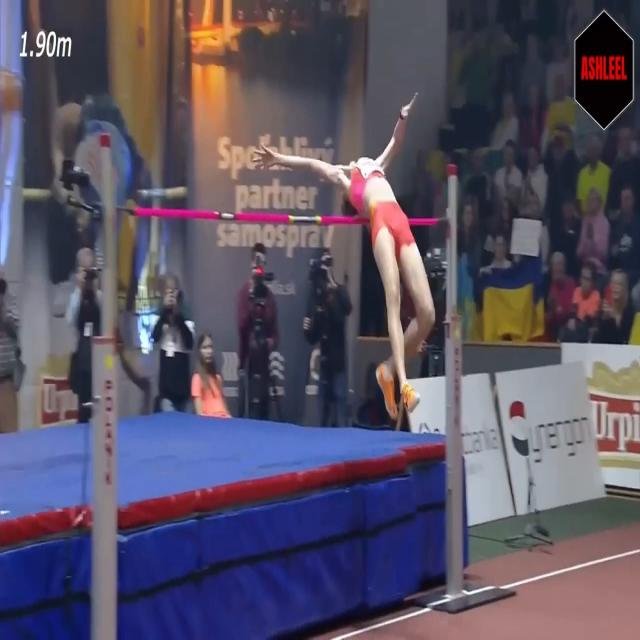jump: (249, 91, 435, 418)
